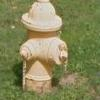Hydrant: (13, 1, 76, 95)
